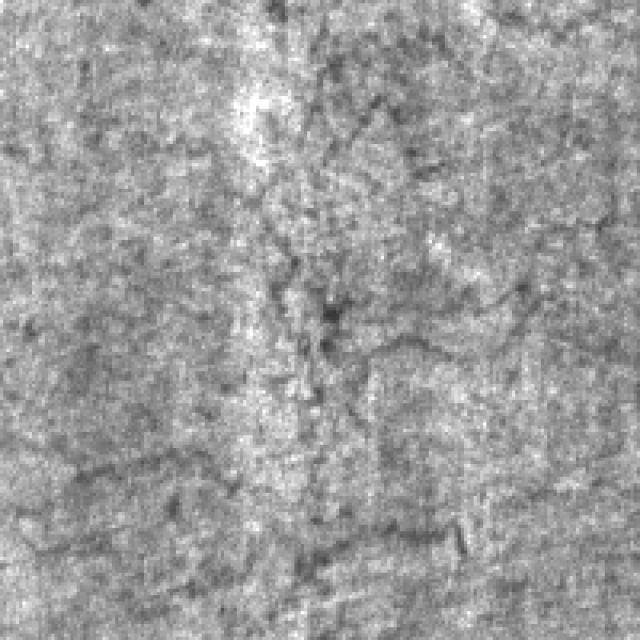crazing: (246, 58, 566, 416), (6, 371, 464, 618)
